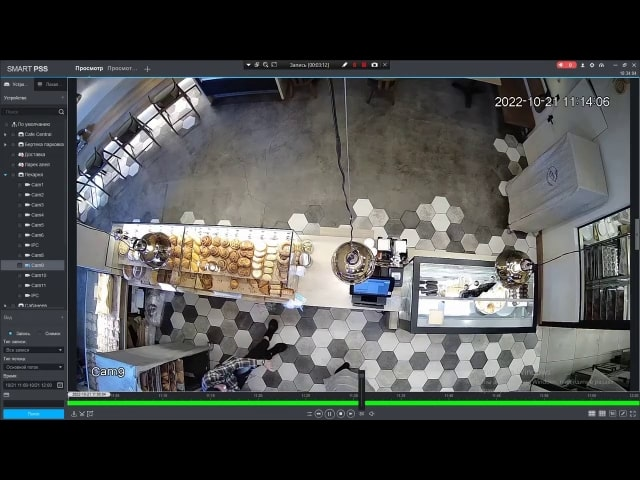barcounter: (89, 222, 538, 333)
